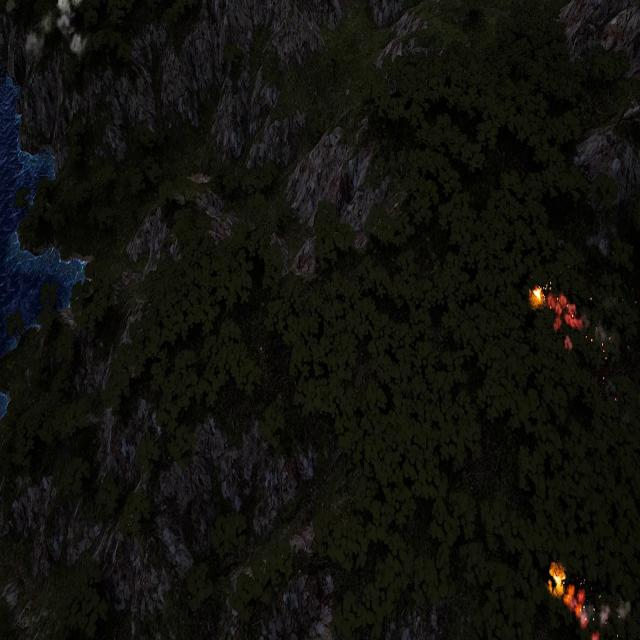fire: (530, 284, 584, 352), (547, 566, 584, 626)
smoke: (24, 0, 92, 60), (579, 591, 640, 640)
